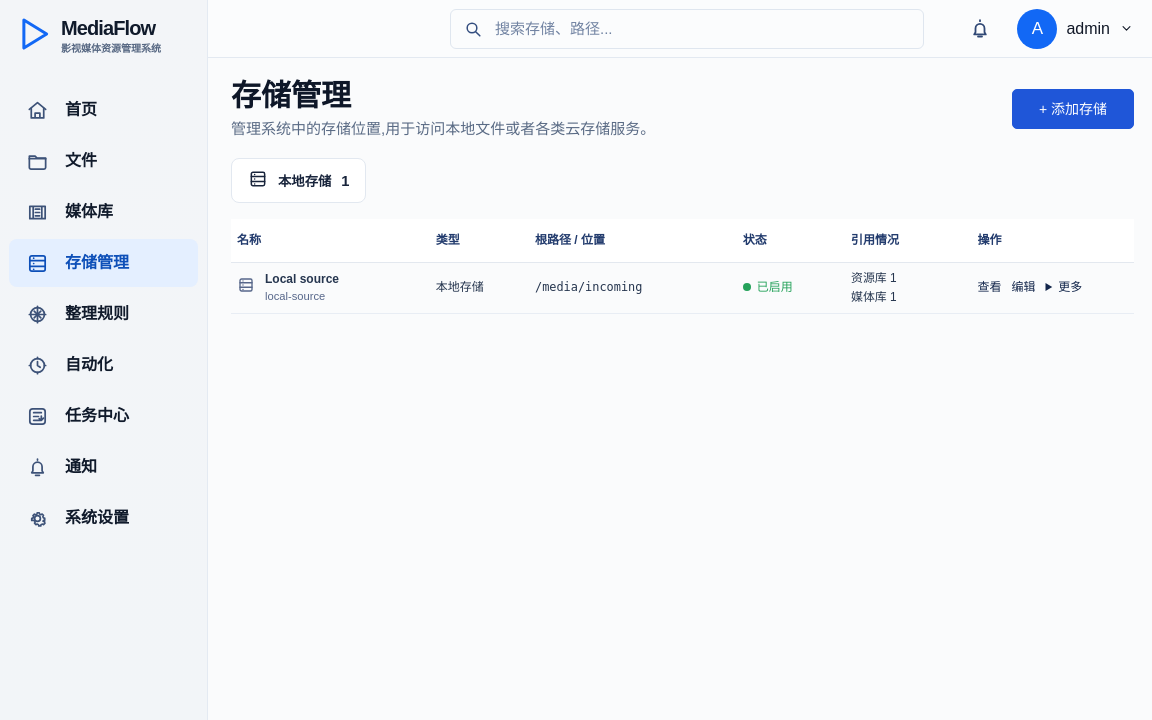
Storage management journey › shows an inspectable detail with references and runs the zero-mutation check
expect the heading "存储管理" is shown: met, box [231,79,351,112]
Click the button with aria-label "查看 Local source": click(989, 288) [977,279,1001,296]
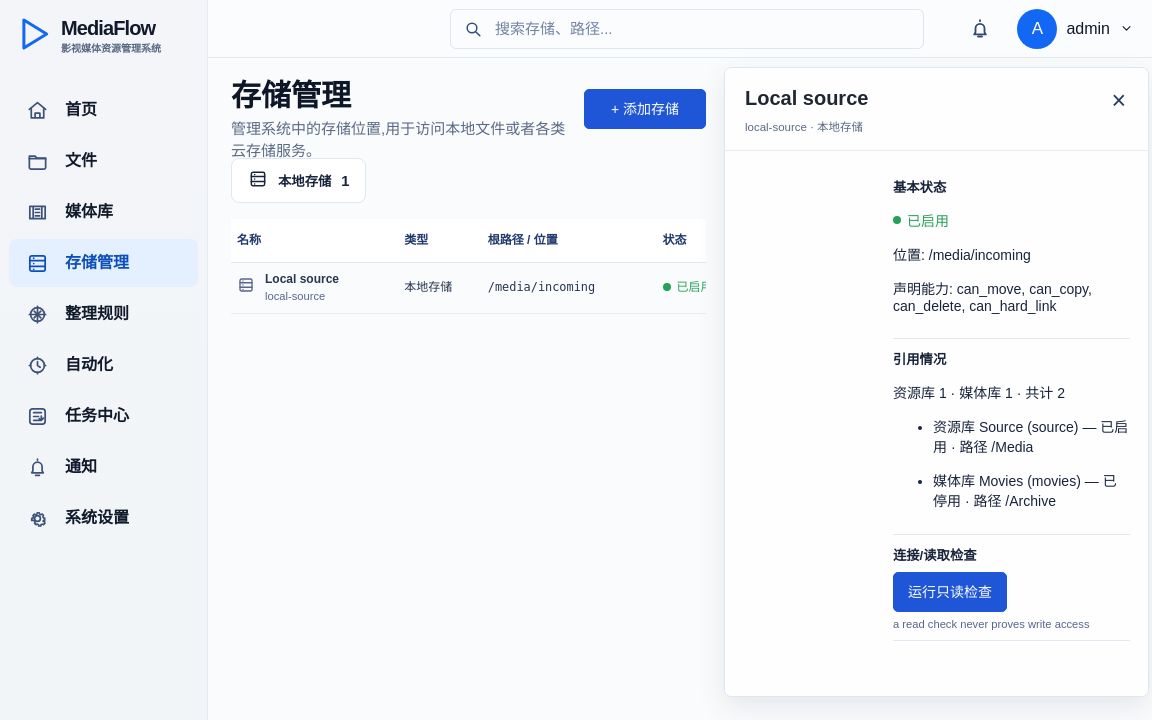
expect the heading "引用情况" is shown: met, box [893,352,946,367]
expect the list item "资源库 Source (source) — 已启用 · 路径 /Media" is shown: met, box [933,416,1130,456]
expect the list item "媒体库 Movies (movies) — 已停用 · 路径 /Archive" is shown: met, box [933,470,1130,510]
// Run the explicit zero-mutation check.
Click the button "运行只读检查": click(950, 592) [893,572,1007,612]
(page scrolled)
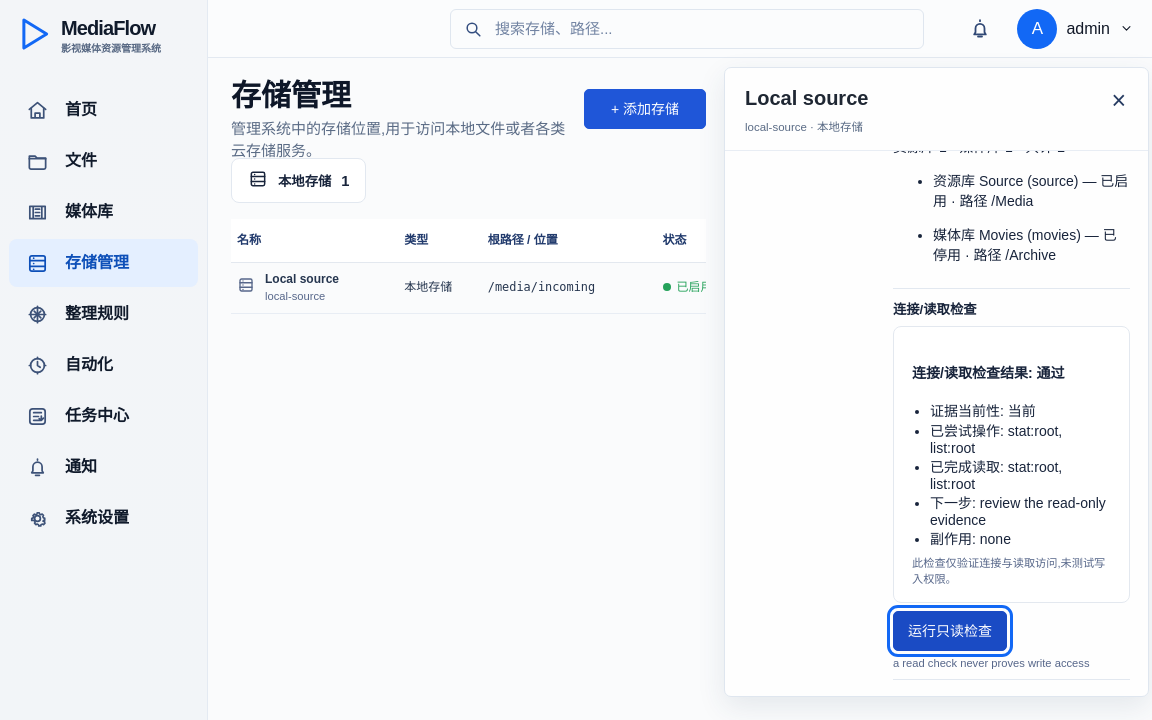
expect the heading "连接/读取检查结果: 通过" is shown: met, box [912,365,1064,381]
expect the text "此检查仅验证连接与读取访问,未测试写入权限。" is shown: met, box [912,554,1111,586]
